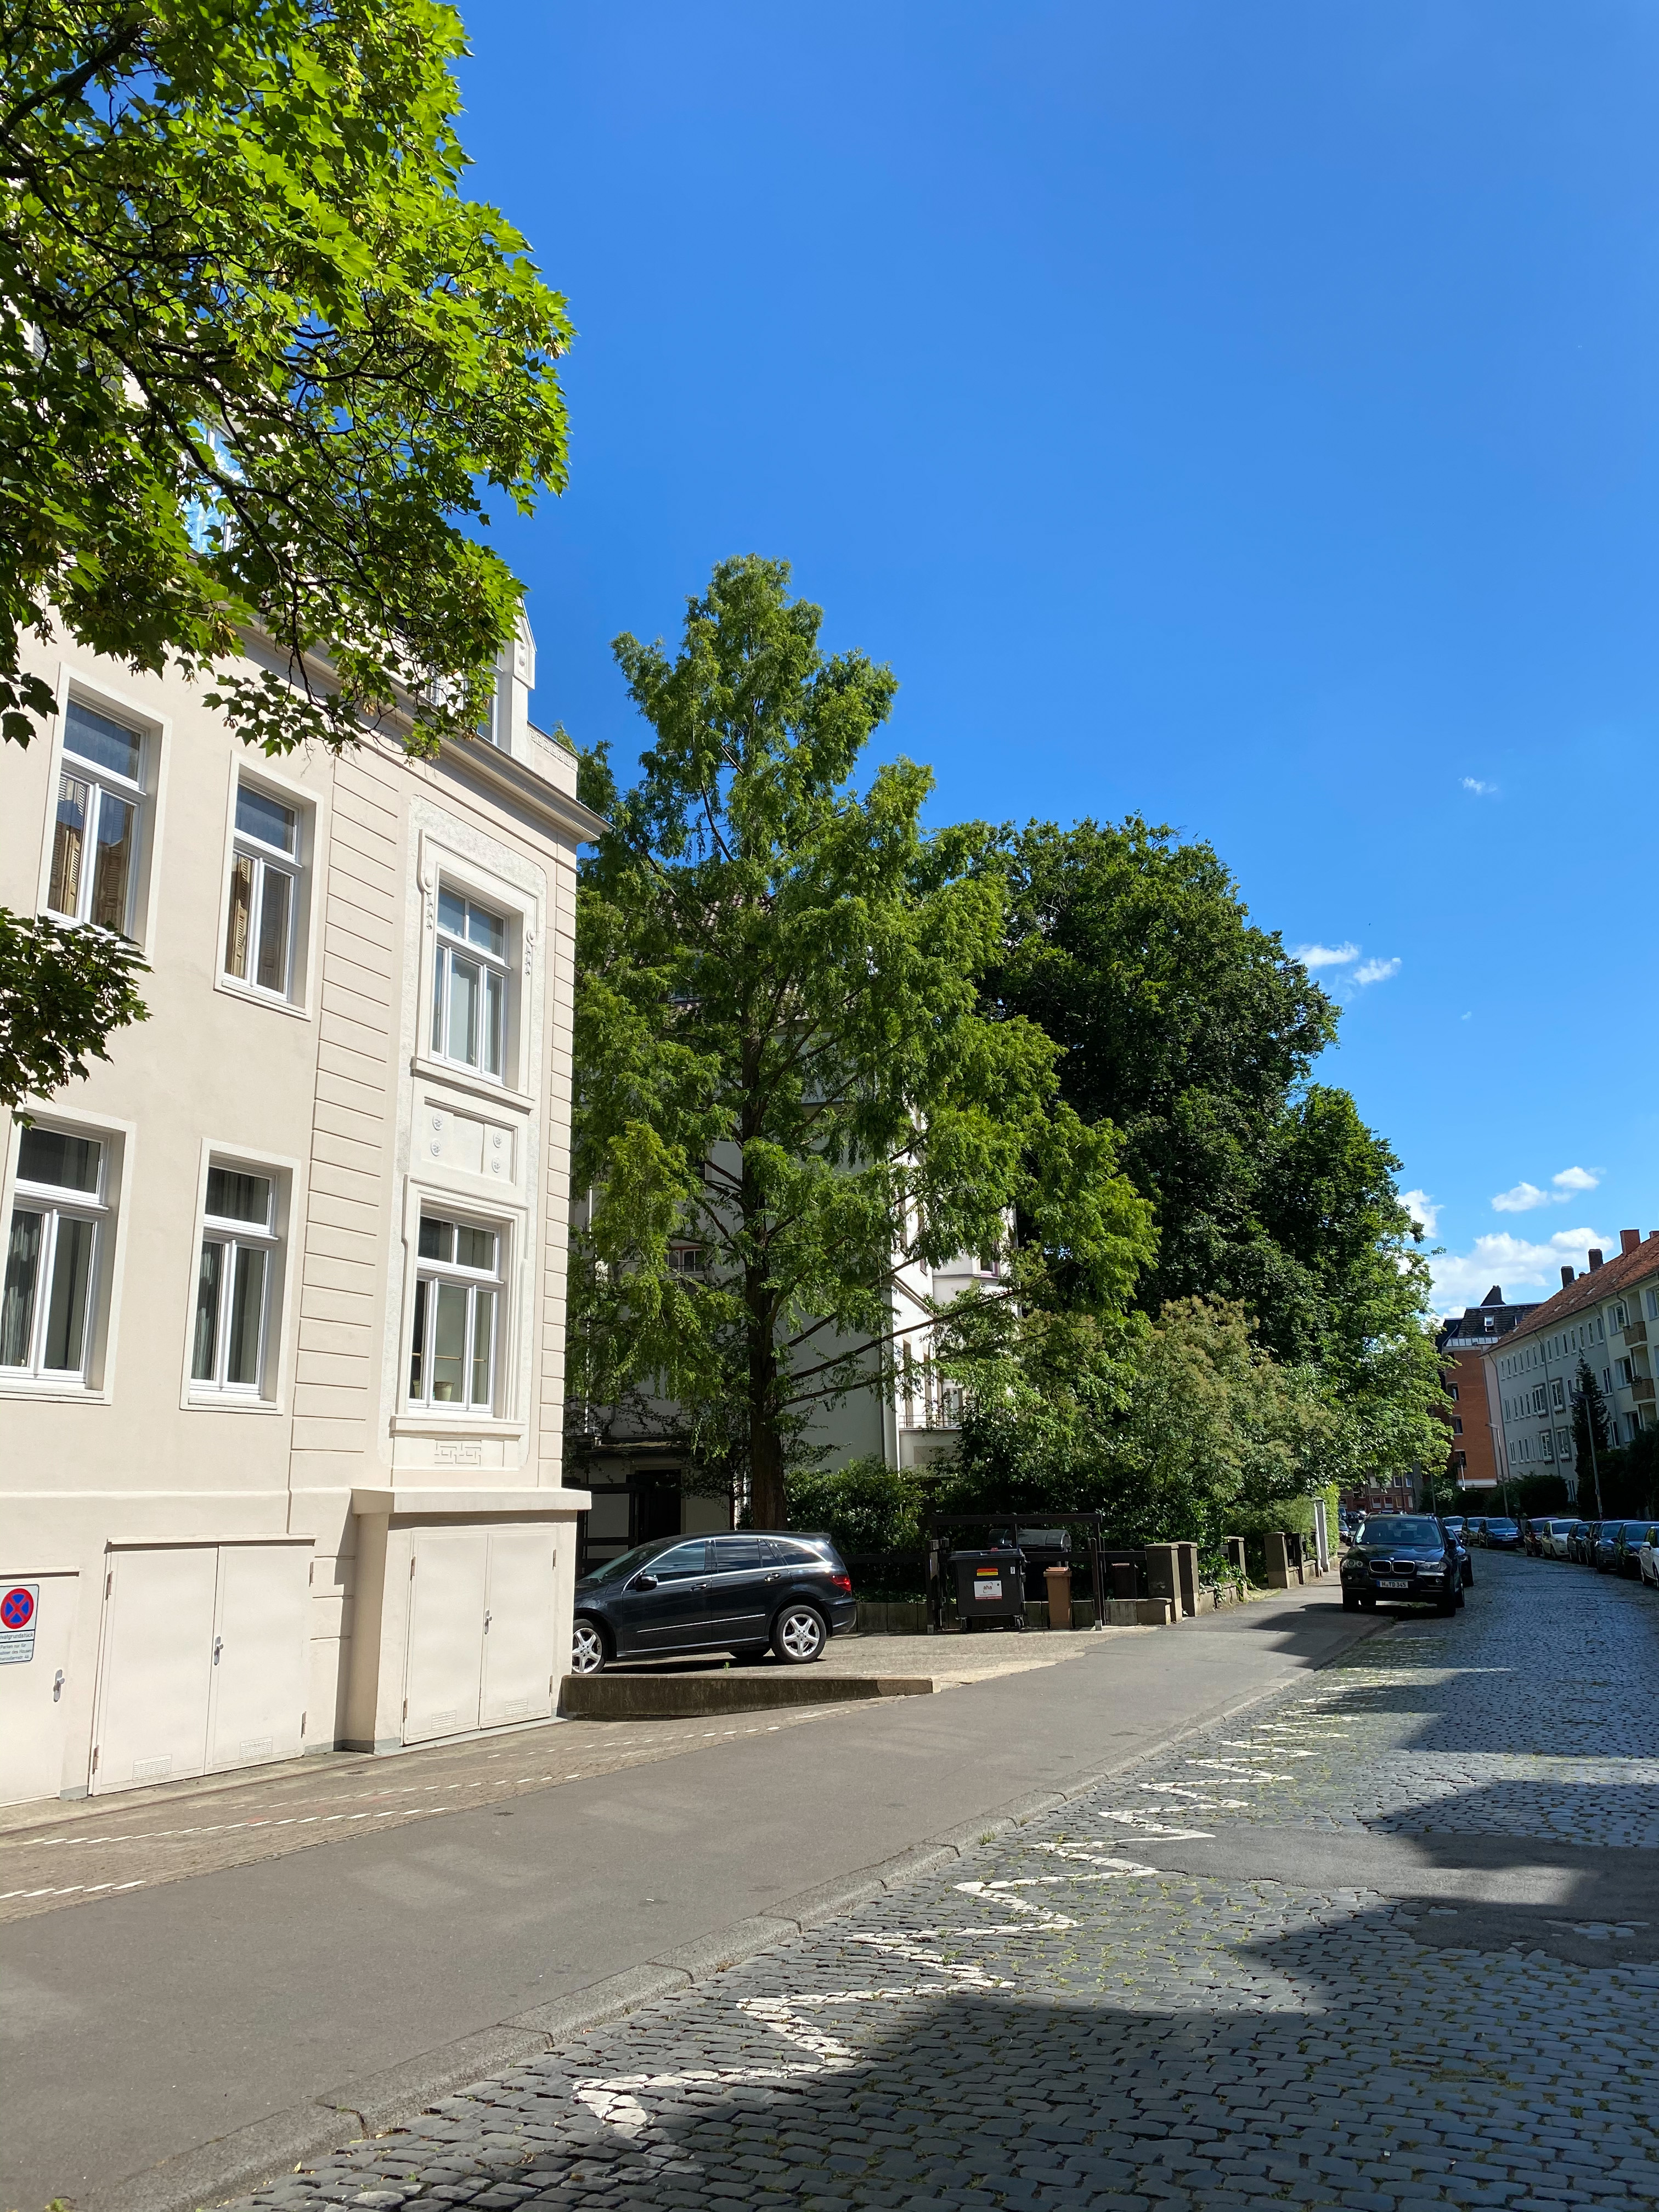tree: (549, 550, 1155, 1534), (0, 145, 580, 1132), (953, 808, 1462, 1501)
